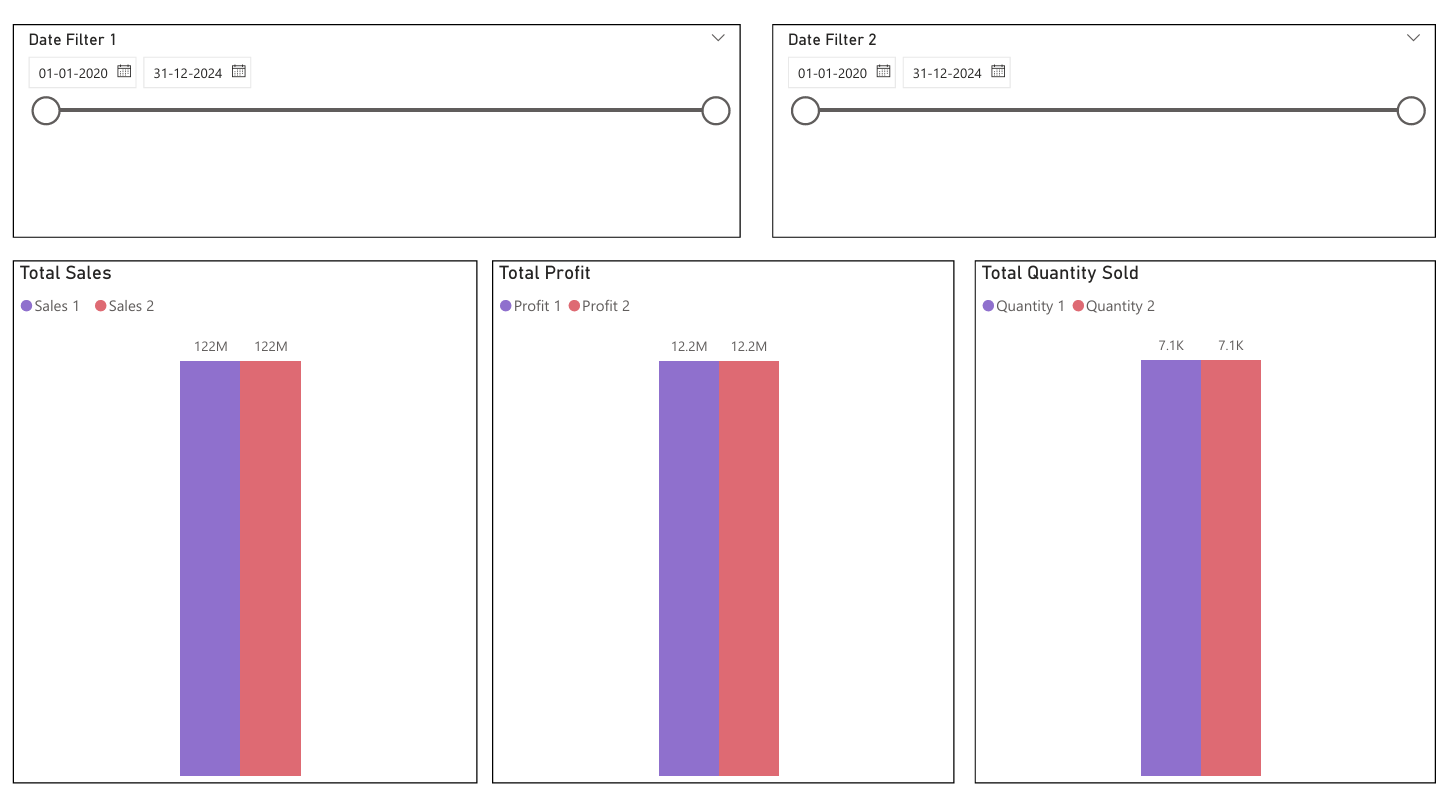

The page's visual inventory and layout, read from the dashboard file:
{"tool":"powerbi","page":{"name":"Comparison Sales/Profit/Quantity","canvas":[1280,720],"ordinal":2},"visuals":[{"type":"slicer","fields":{"Values":["Date Table 1.Date"]},"box":[15.2,25.3,647.1,189.6],"z":0},{"type":"slicer","fields":{"Values":["Date Table 2.Date"]},"box":[690,25.3,590.2,189.6],"z":1000},{"type":"clusteredColumnChart","title":"Total Sales","fields":{"Y":["Sum(Fact Table.Net Sales  )","Date Table 1.Sum of Net Sales"]},"box":[15.2,235.1,413.3,465.1],"z":2000},{"type":"clusteredColumnChart","title":"Total Profit","fields":{"Y":["Sum(Fact Table.Profit)","Measures Table.Total Profit"]},"box":[441.1,235.1,410.7,465.1],"z":3000},{"type":"clusteredColumnChart","title":"Total Quantity Sold","fields":{"Y":["Sum(Fact Table.Units Sold)","Measures Table.Quantity Sold"]},"box":[869.5,235.1,410.7,465.1],"z":4000}]}

Visuals, with their boxes in screenshot pixels (x1, y1, x2, y2), scaled from the page's 1280x720 canvas onto the 1448x802 screenshot:
slicer - Date Table 1.Date: detection(17, 28, 749, 239)
slicer - Date Table 2.Date: detection(781, 28, 1447, 239)
"Total Sales" clusteredColumnChart: detection(17, 262, 485, 780)
"Total Profit" clusteredColumnChart: detection(499, 262, 964, 780)
"Total Quantity Sold" clusteredColumnChart: detection(984, 262, 1447, 780)
